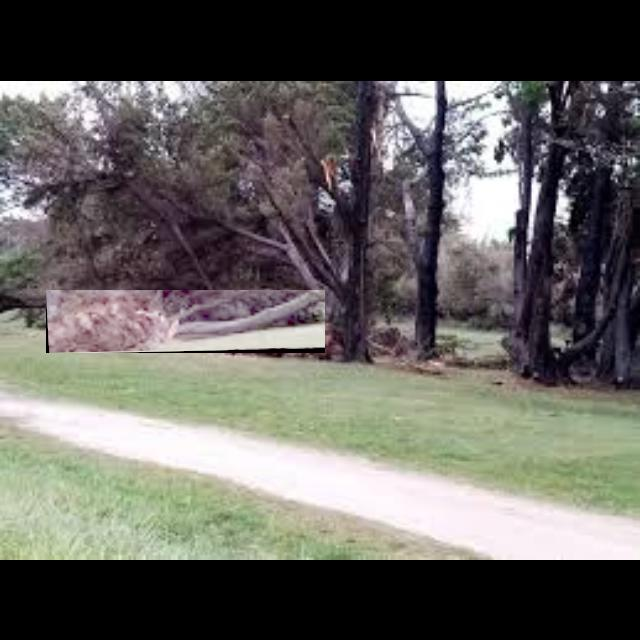Fallen Tree: (46, 290, 326, 354)
